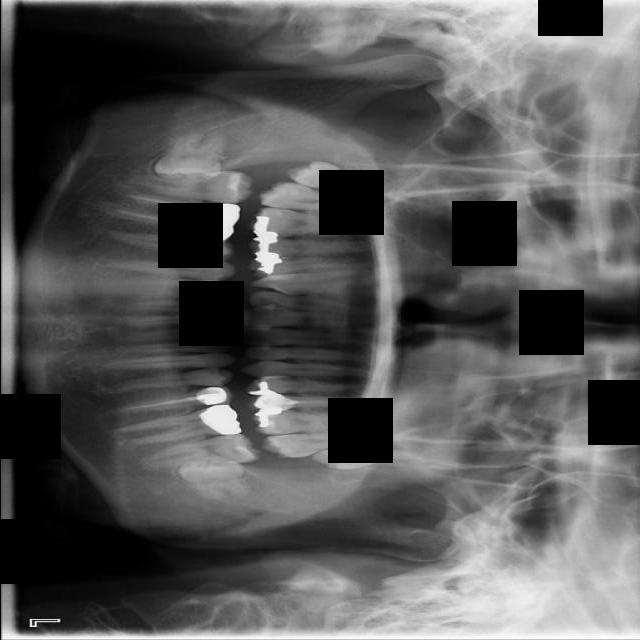3M ESPE Implant: (287, 157, 387, 197)
52: (245, 200, 297, 245), (196, 401, 243, 441), (204, 200, 241, 244), (252, 407, 299, 436), (244, 252, 284, 280), (246, 393, 294, 413), (246, 374, 289, 396), (245, 236, 283, 258), (193, 386, 234, 406)
73: (109, 179, 216, 237), (112, 389, 208, 414), (287, 395, 386, 411), (54, 570, 62, 576)
BioHorizons Implant: (258, 425, 386, 462)
BioLife Implant: (311, 447, 424, 472)
Biomet 3i Implant: (178, 459, 249, 501)
Blue Sky Bio Implant: (143, 433, 261, 469)
Caries: (258, 178, 389, 224)
Implant: (137, 162, 255, 206)
Keystone Dental Implant: (155, 132, 224, 179)
